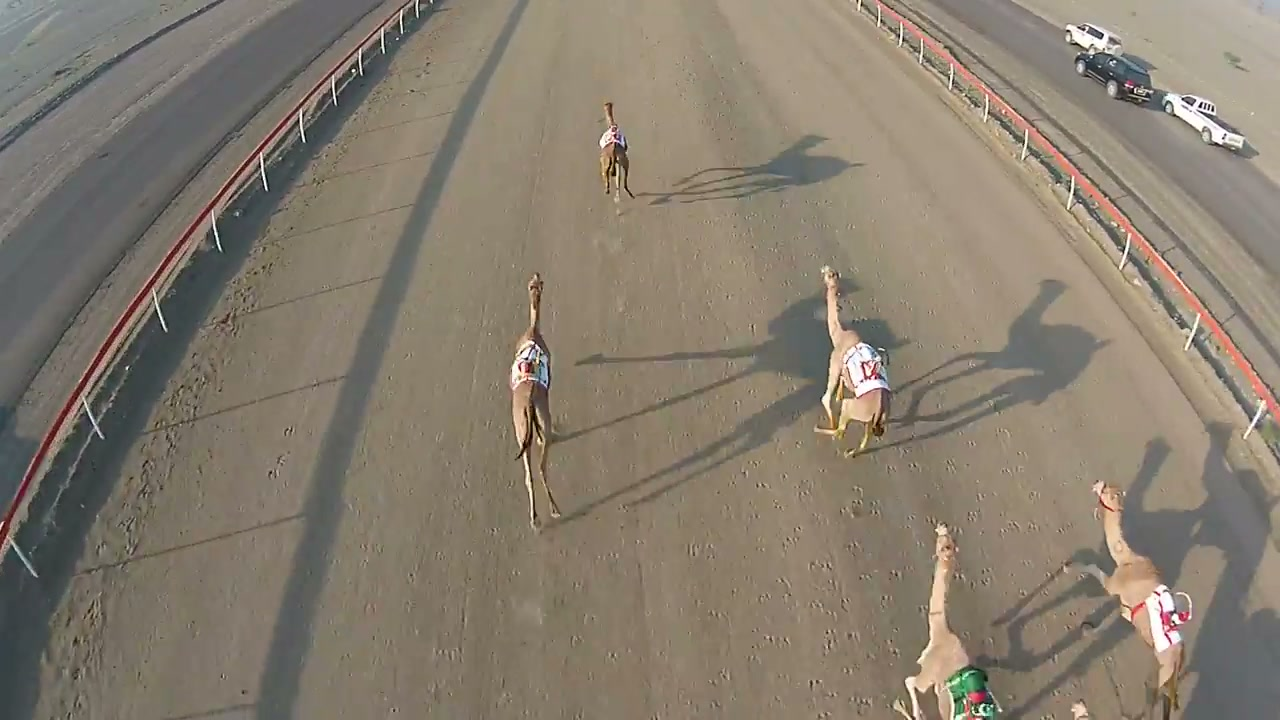animal_footprint: (726, 424, 908, 719)
